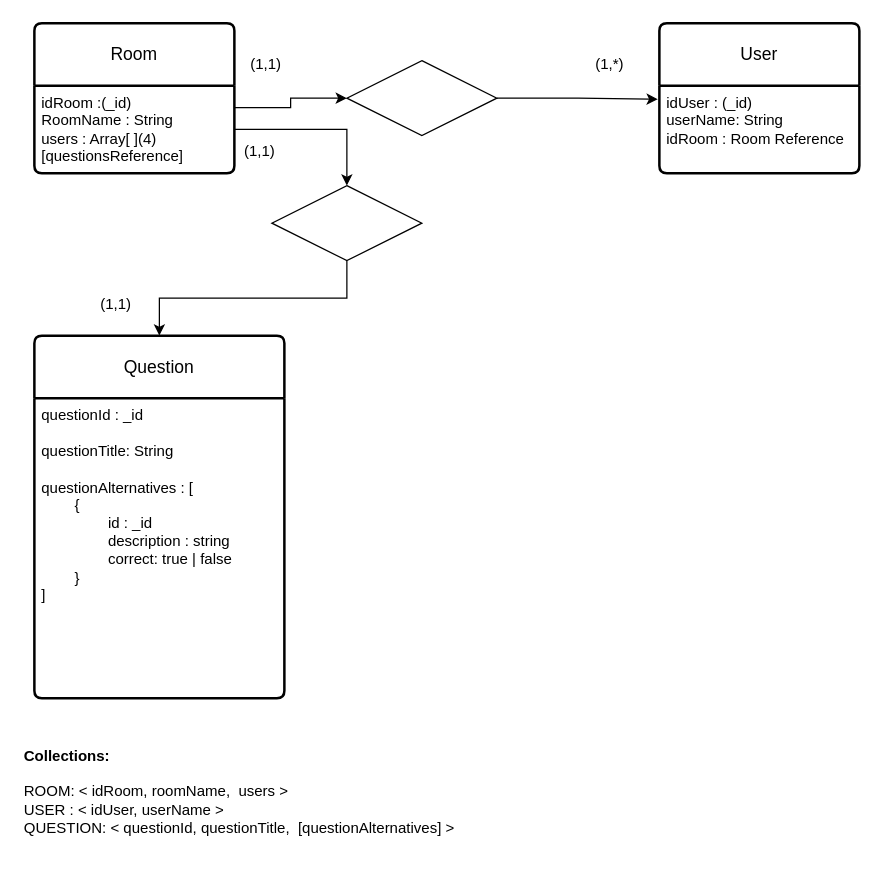
The diagram is 881 pixels wide and 869 high, and some of its shapes have lost their labels. The shapes that lost their labels are listed below. From the top down, each one's box as (x1, y1, x2, y2) in pixels, then its label:
(346, 59, 497, 136): user_isIn
(271, 184, 422, 261): had
